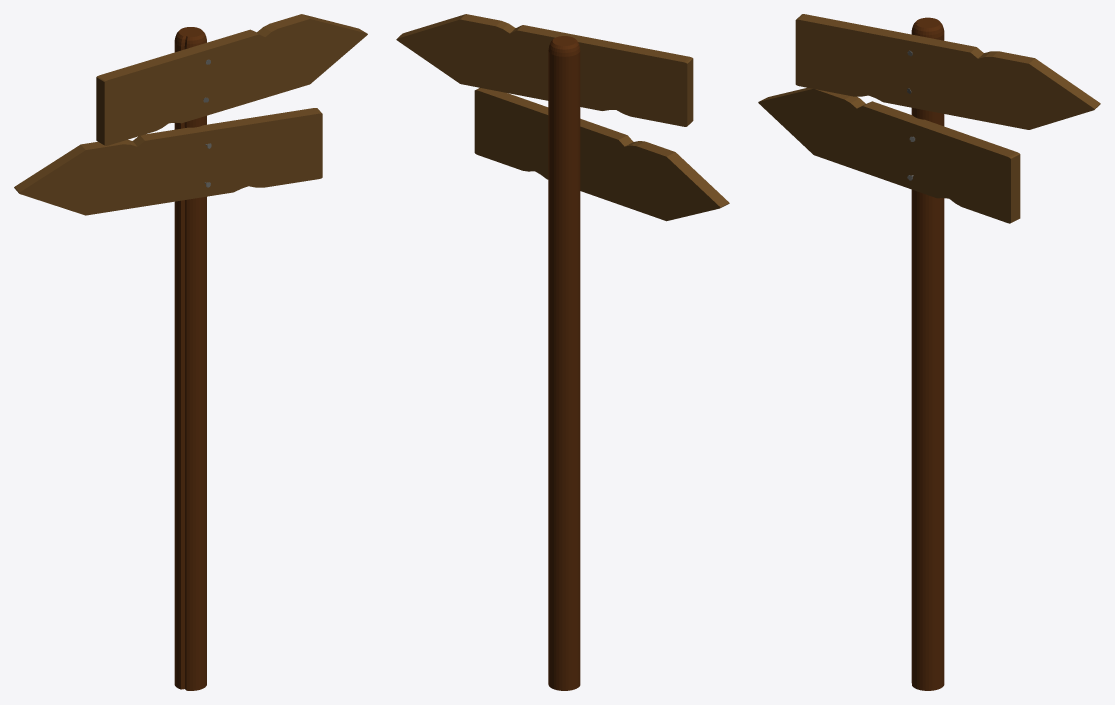
File: Waypoint.fbx
3 views of the same model, side by side, from view 1: azimuth 30°, elevation 25°; view 2: azimuth 150°, elevation 25°; view 3: azimuth 330°, elevation 25° (orthographic). The views are drawn at different scales.
Parts seen in each view (by area): view 1: SchildR, SchildL, Pfosten; view 2: Pfosten, SchildL, SchildR; view 3: SchildL, Pfosten, SchildR.
Part boxes in pixels (x1,y1,x2,y2): SchildR: [14, 108, 322, 215]; SchildL: [96, 14, 367, 145]; Pfosten: [174, 27, 206, 690]; Pfosten: [548, 36, 580, 690]; SchildL: [396, 14, 693, 126]; SchildR: [474, 88, 729, 221]; SchildL: [795, 14, 1100, 129]; Pfosten: [911, 17, 944, 690]; SchildR: [758, 87, 1020, 223].
Bounding box in the file's own units: 109 × 199 × 19.05.
